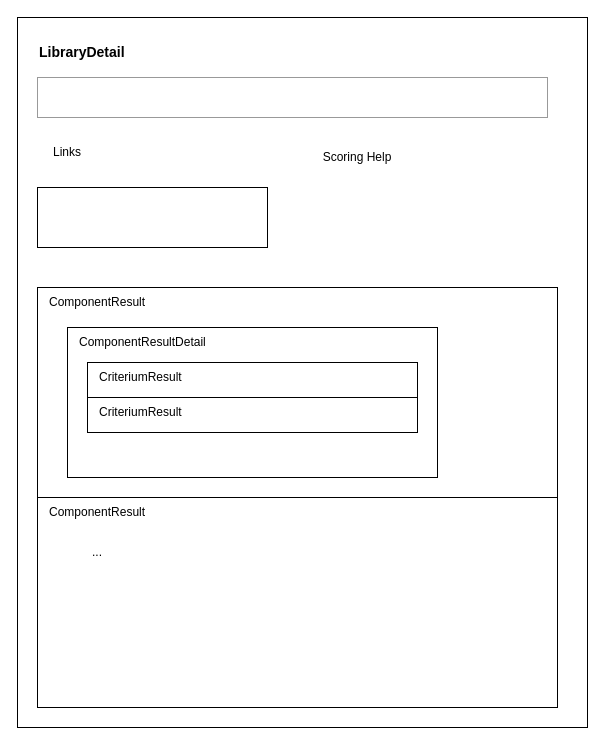
Image size: 605x745. Some labels were removed from this diagram. Here are the shapes that lost their labels. From the top down, the centre of each, then its label:
At (292,97): "Heading".
At (152,217): "AddVersion".
